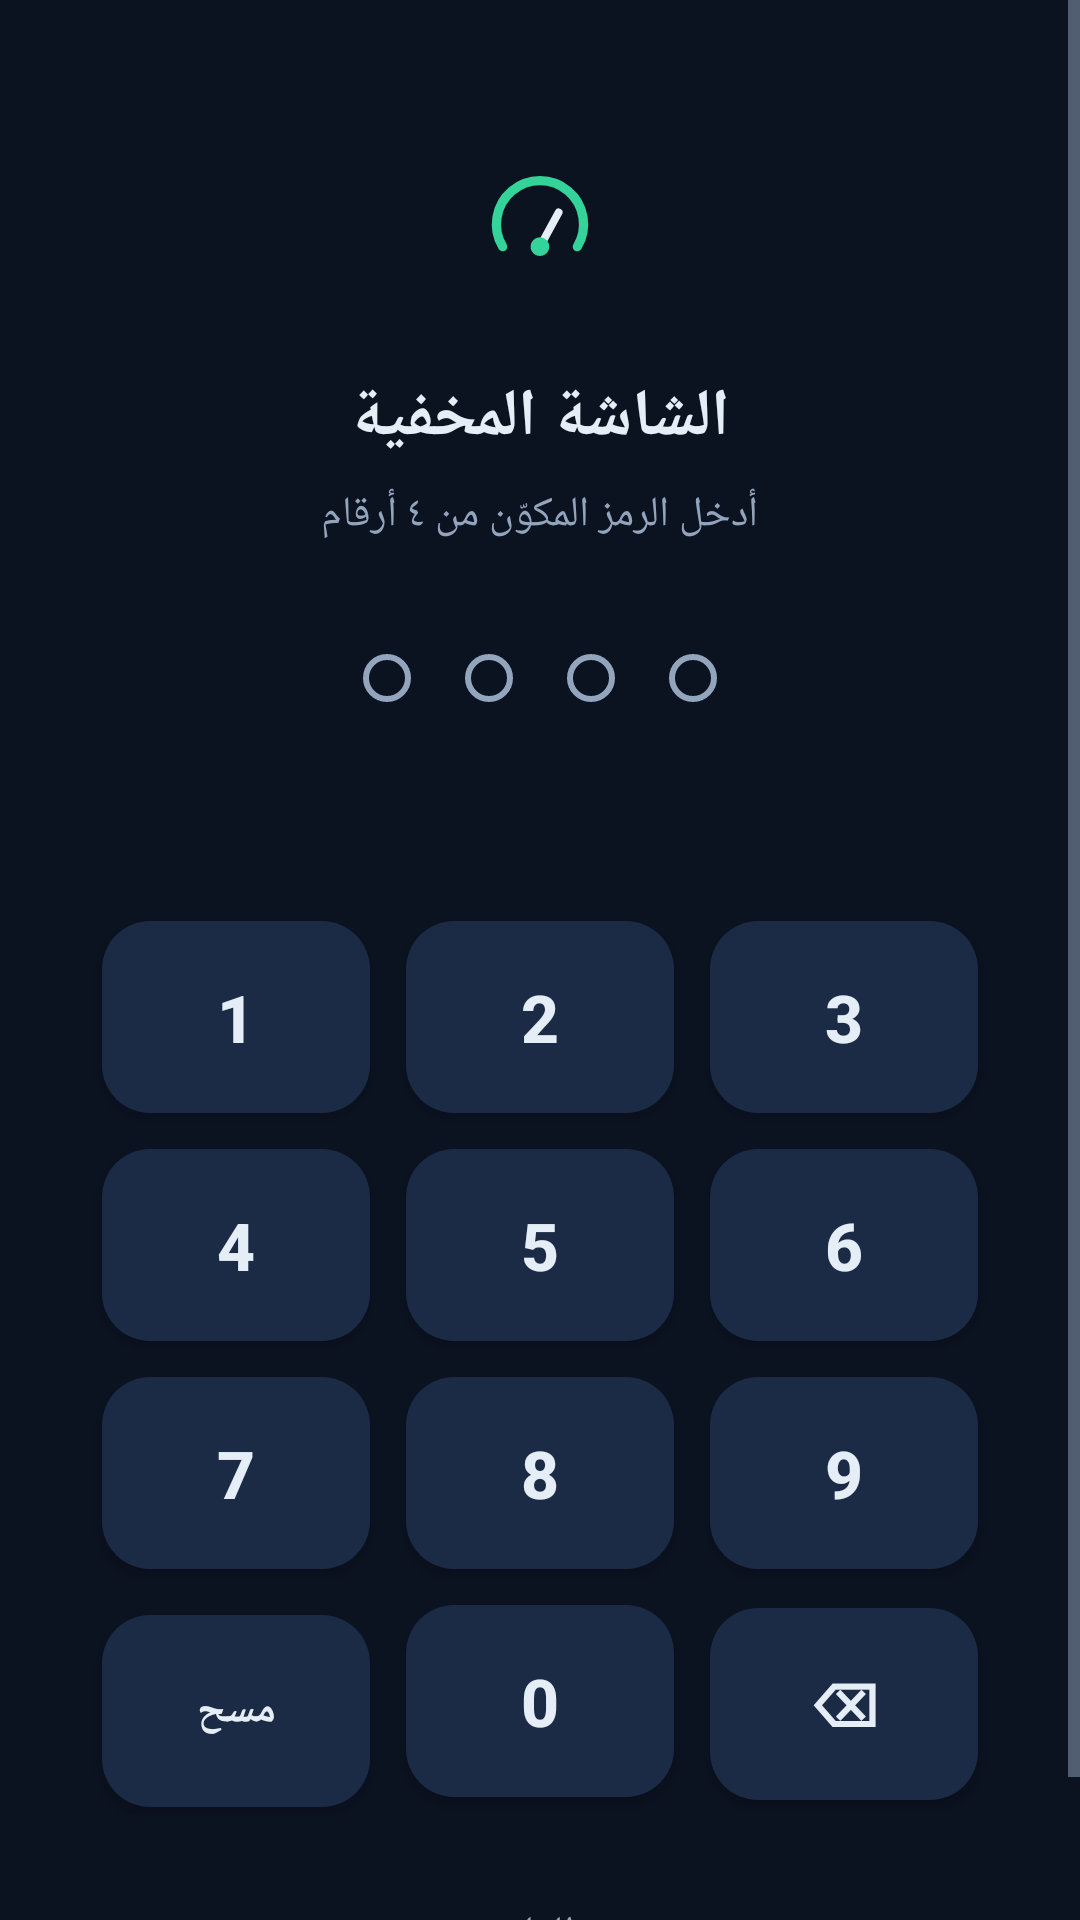

Locate icon controls on the screen. Image size 1080 × 1920, boxes as box=[x1, y1, x2, y2].
pin dot: box=[363, 654, 411, 702], box=[465, 654, 513, 702], box=[567, 654, 615, 702], box=[669, 654, 717, 702]
